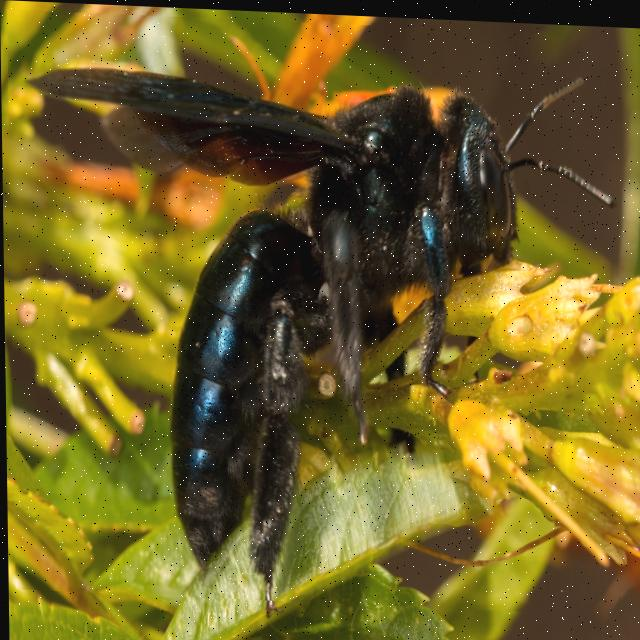Xylocopa: (8, 9, 620, 610)
